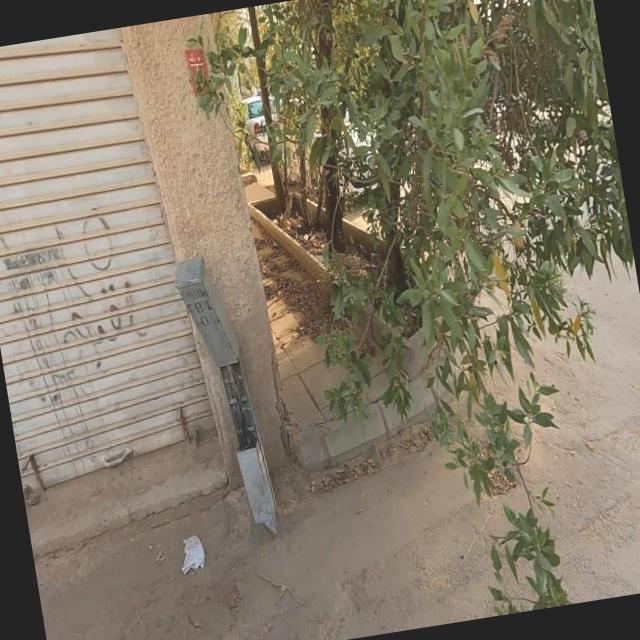debris: (131, 475, 243, 634)
